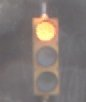Red: (27, 12, 70, 101)
